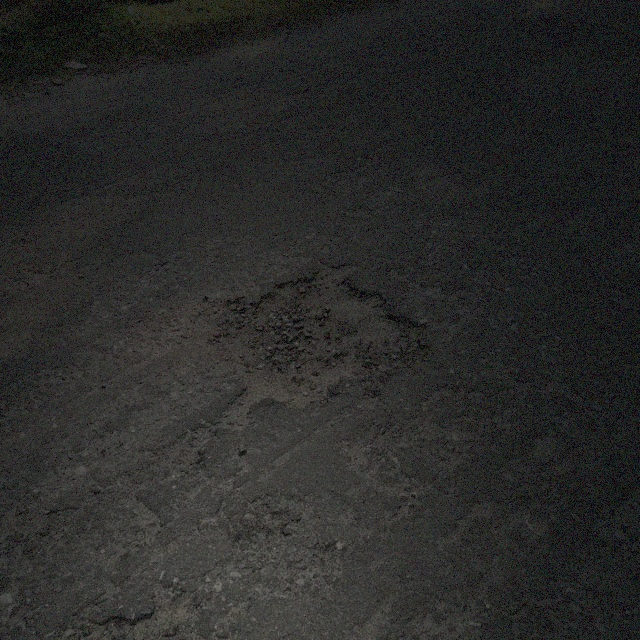pothole: (191, 258, 432, 412), (66, 584, 210, 639)
